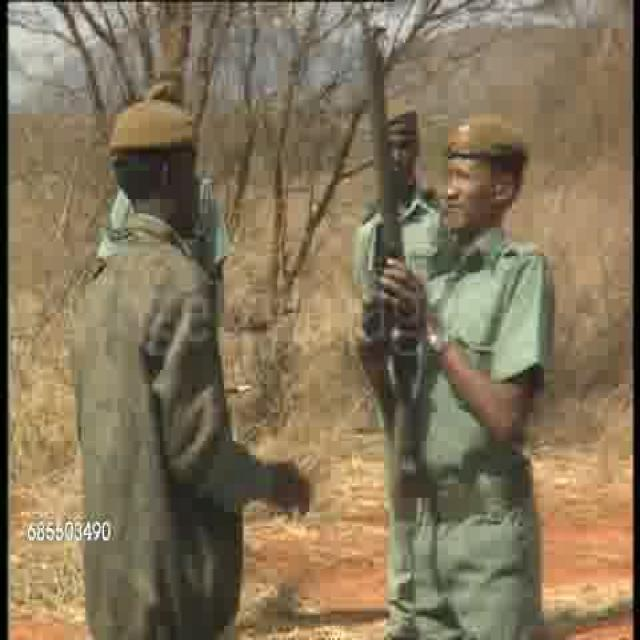ranger: (404, 116, 597, 634), (98, 37, 266, 629)
weapon: (339, 0, 440, 406)
